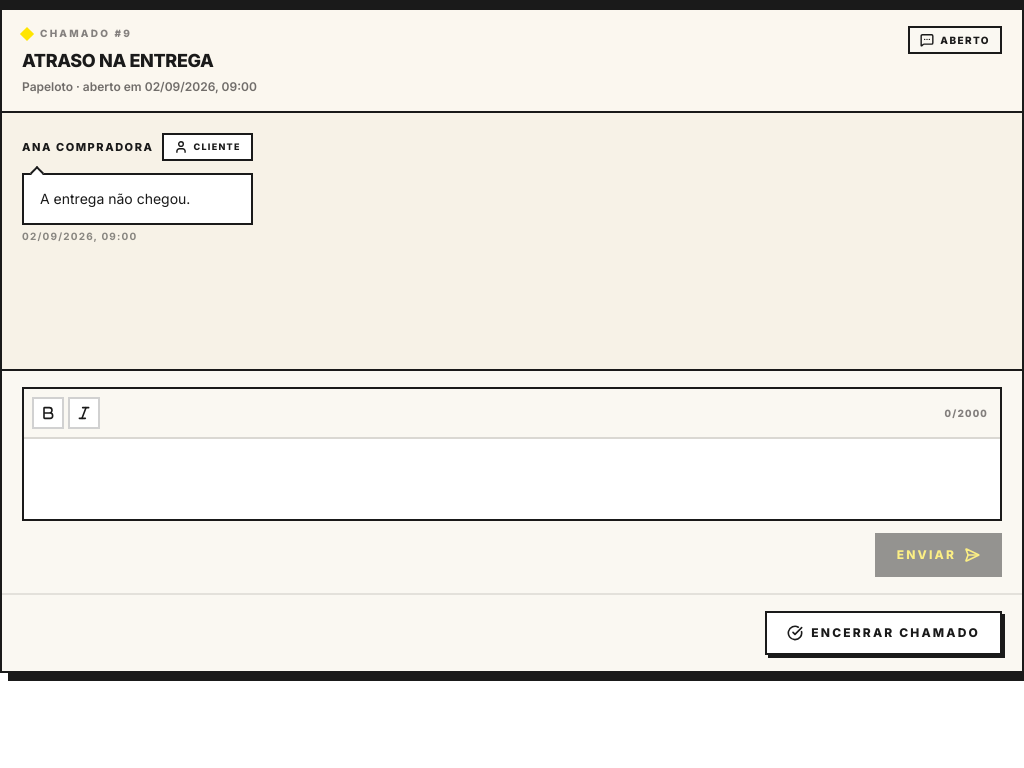
Test case: ChamadoThreadPanel › recusa do backend ao encerrar aparece como erro, sem fingir sucesso
The image size is (1024, 768).
Click the button "Encerrar chamado".
click(884, 633)  # box top-left (765, 611), bottom-right (1002, 655)
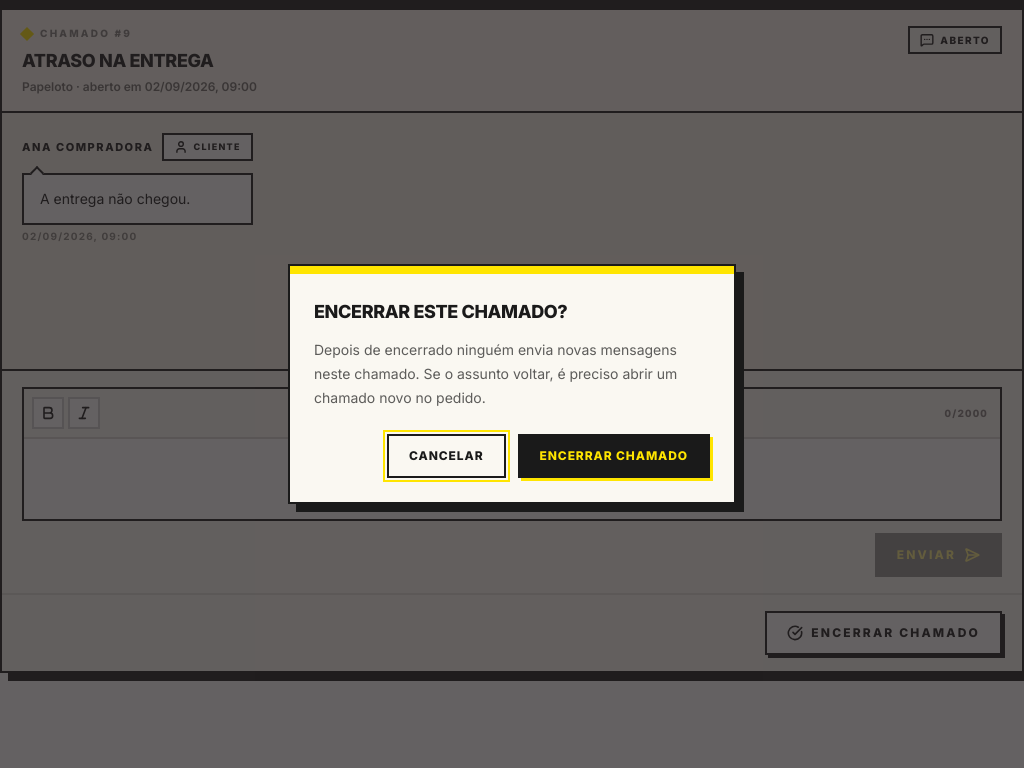
Click the button "Encerrar chamado".
click(614, 456)  # box top-left (518, 434), bottom-right (710, 478)
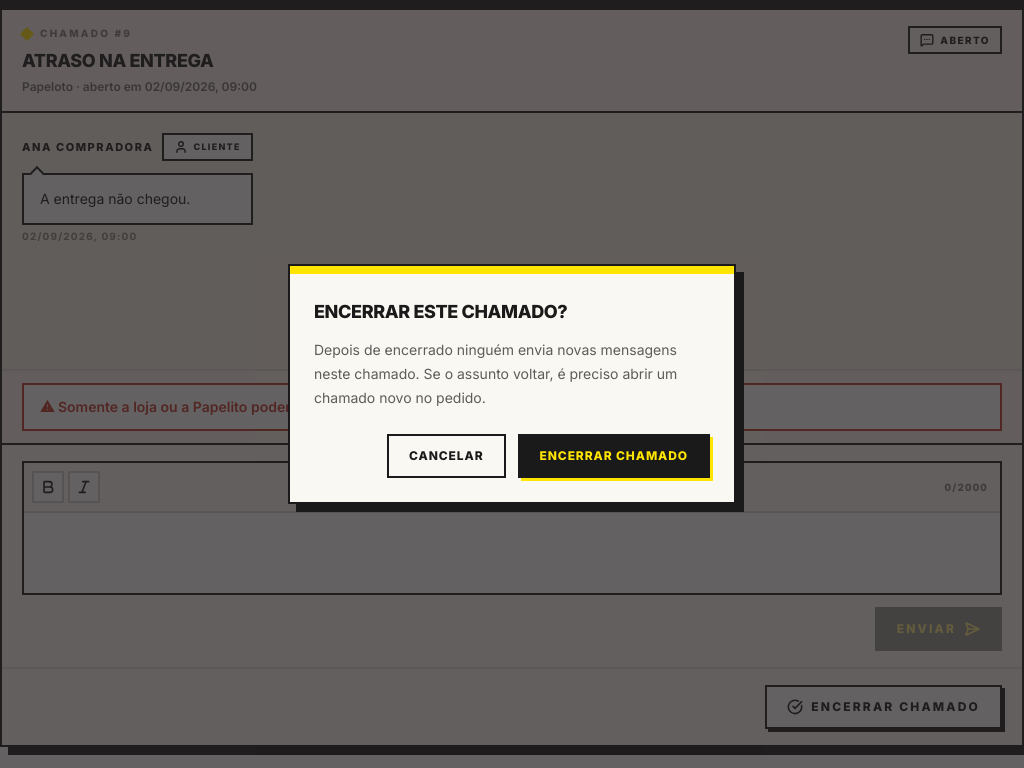
Expected: the text "⚠ Somente a loja ou a Papelito podem encerrar o chamado." is shown, top-left (22, 383), bottom-right (1002, 431)
